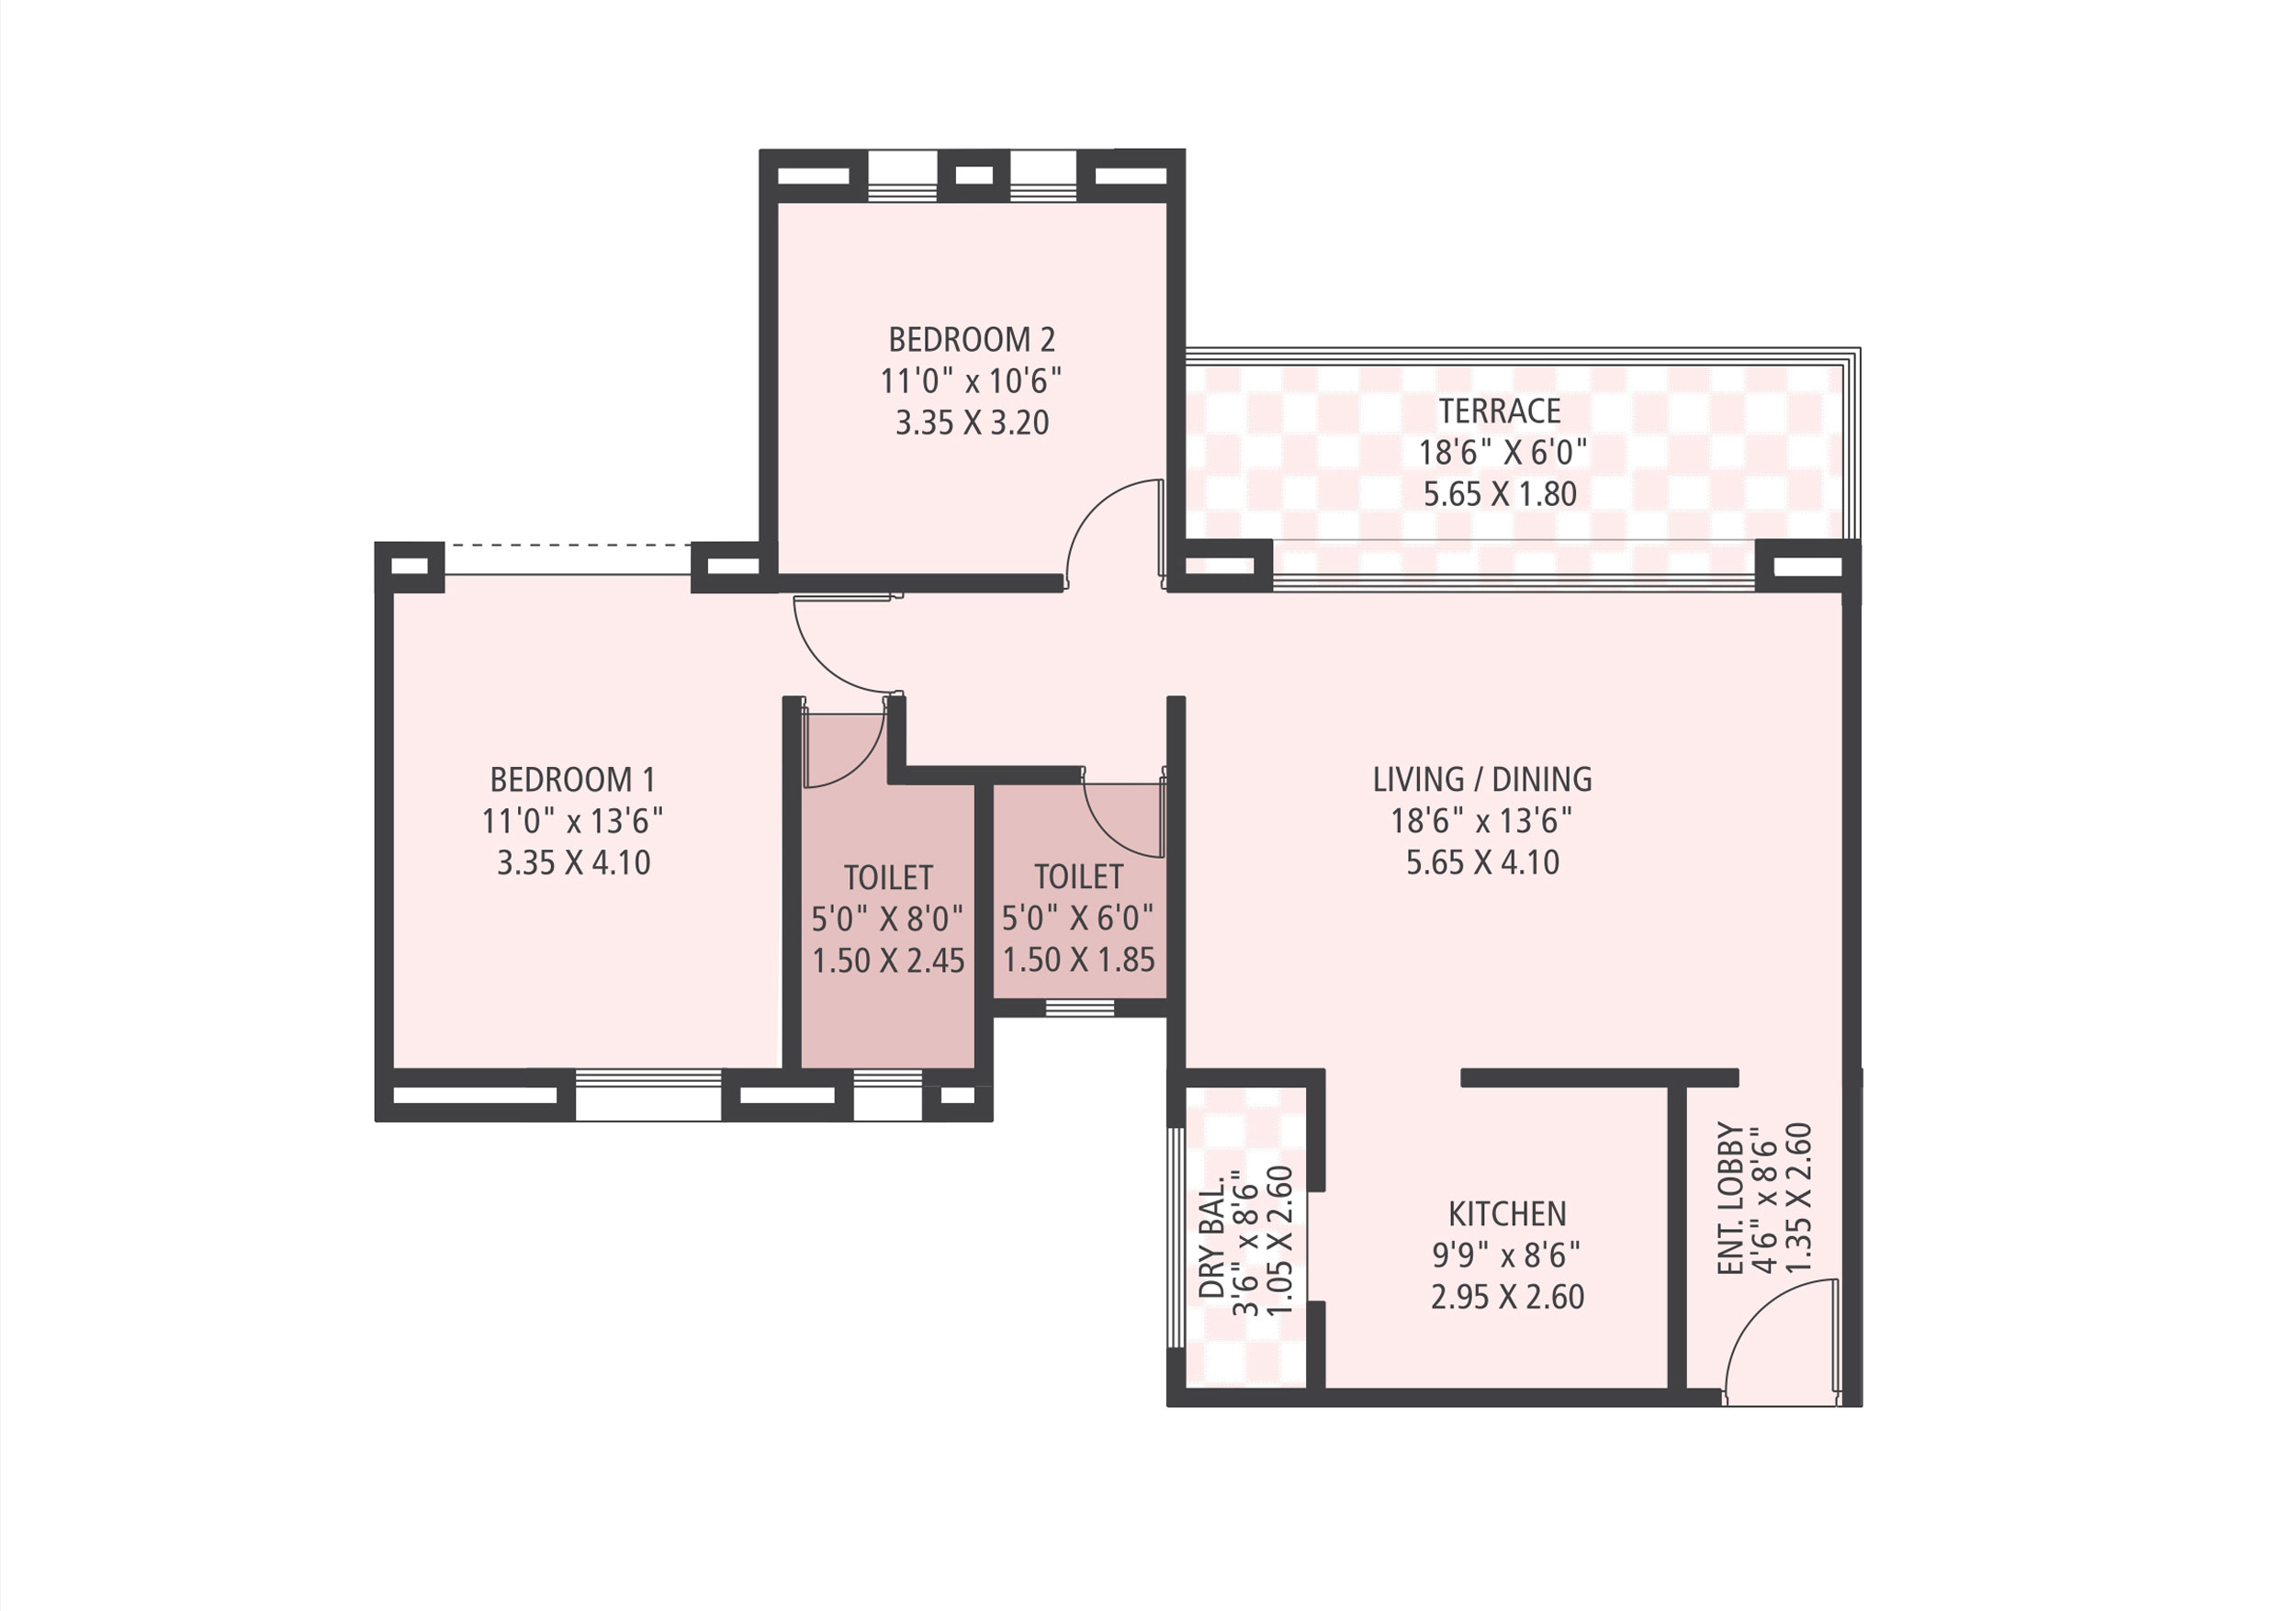door: (1724, 1274, 1835, 1389), (1056, 475, 1164, 571), (792, 595, 881, 695), (803, 716, 883, 794), (1085, 789, 1162, 860)
